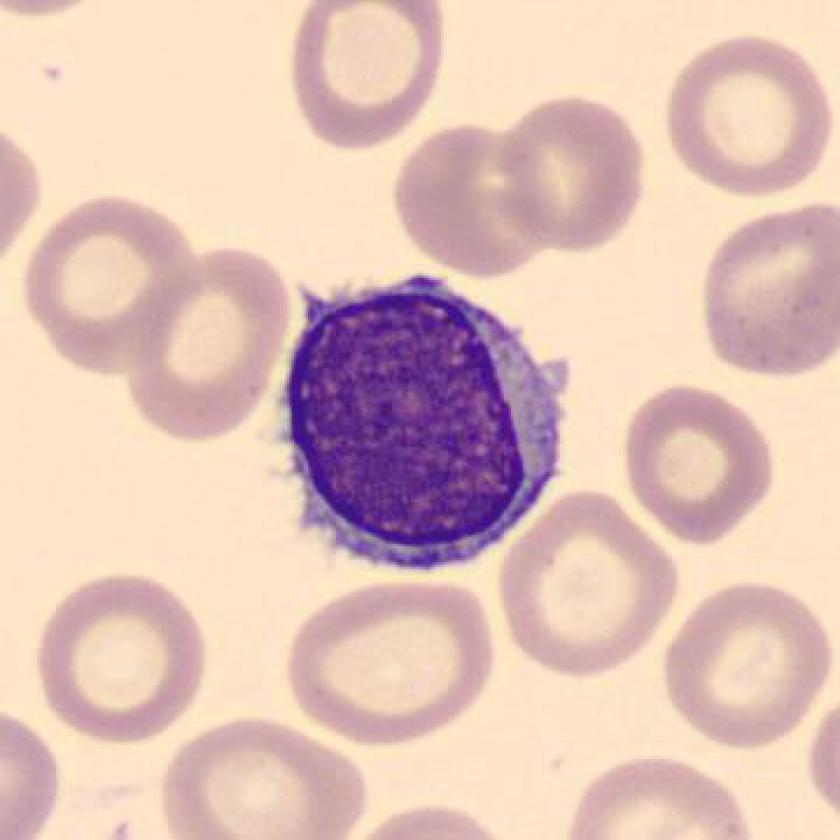lymphocyte: (258, 270, 580, 594)
